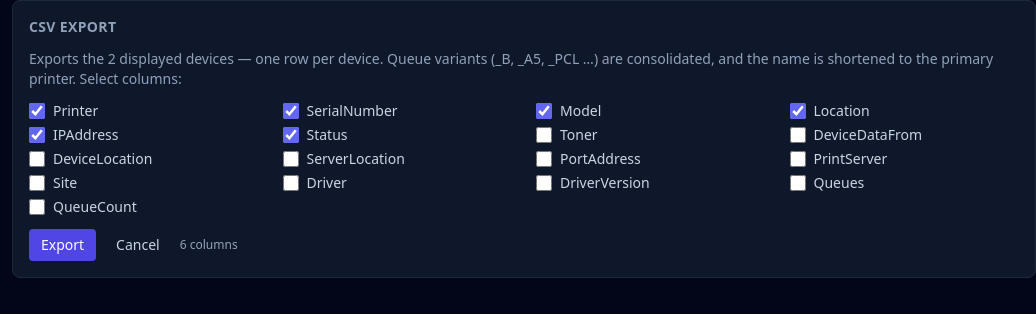
Test: PrintCsvExportCard › keeps an export failure visible without closing the workflow
The image size is (1036, 314).
Click the button "Export".
click(63, 245)  # box x1=29 y1=229 x2=96 y2=261
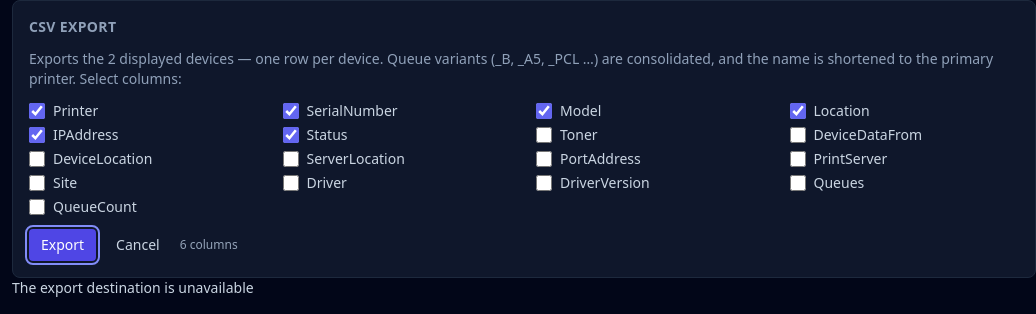
expect the text "The export destination is unavailable" is shown: met, box x1=12 y1=278 x2=254 y2=297
